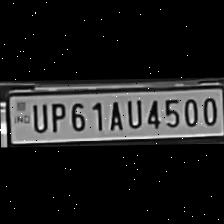0: (180, 95, 200, 126), (200, 94, 218, 125)
1: (87, 99, 105, 130)
4: (143, 97, 161, 128)
5: (159, 95, 179, 127)
6: (66, 99, 86, 130)
A: (104, 97, 124, 130)
P: (46, 100, 66, 132)
U: (28, 100, 46, 133), (124, 96, 142, 129)
